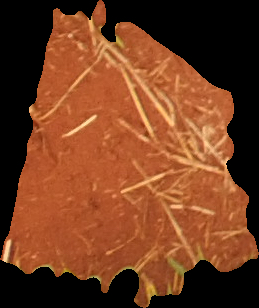soil: (3, 4, 257, 306)
